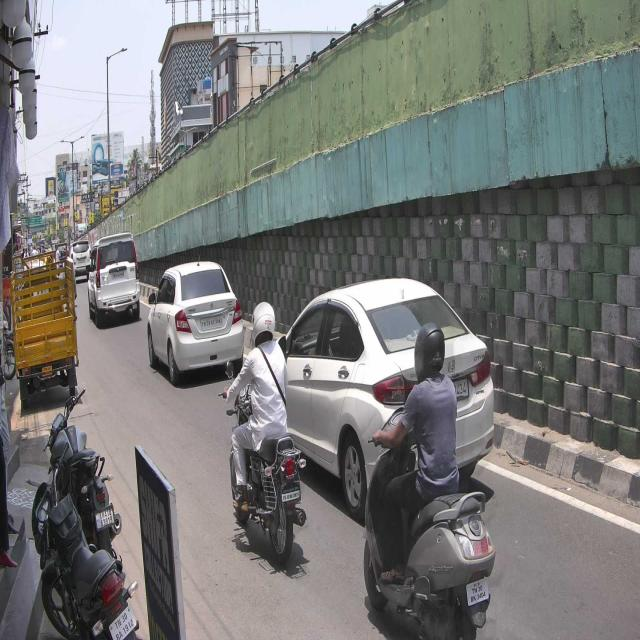single_rider: (362, 320, 499, 640), (218, 298, 308, 558)
